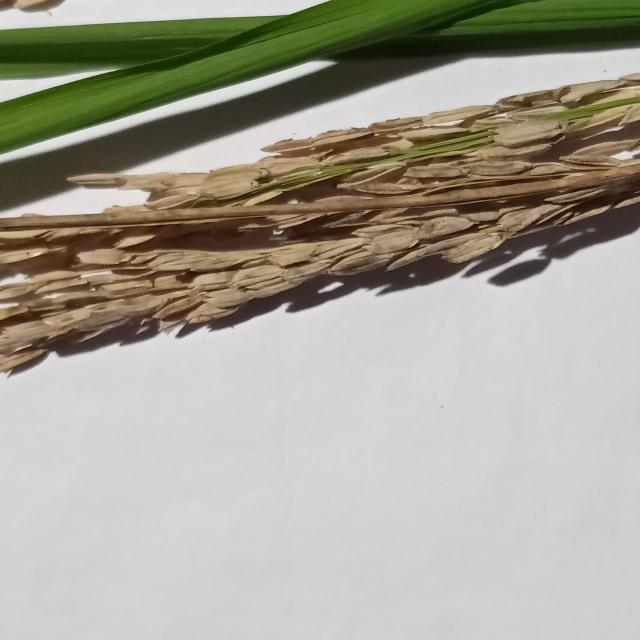Neck_Blast: (0, 70, 640, 370)
